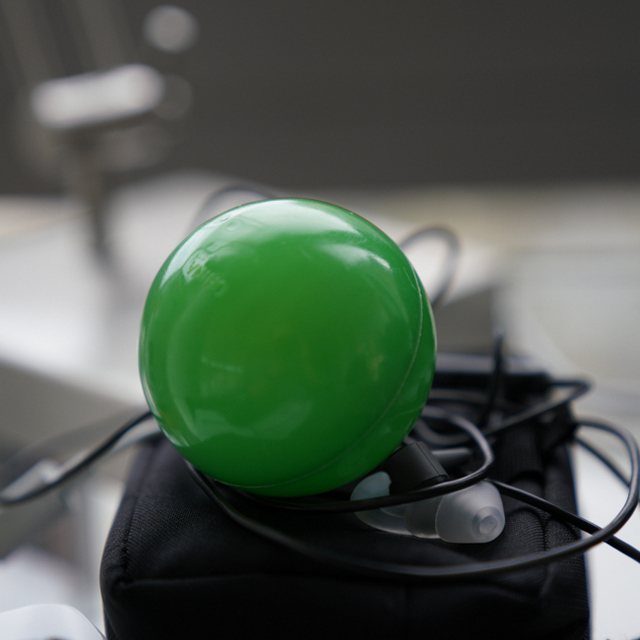Ball: (140, 196, 437, 493)
